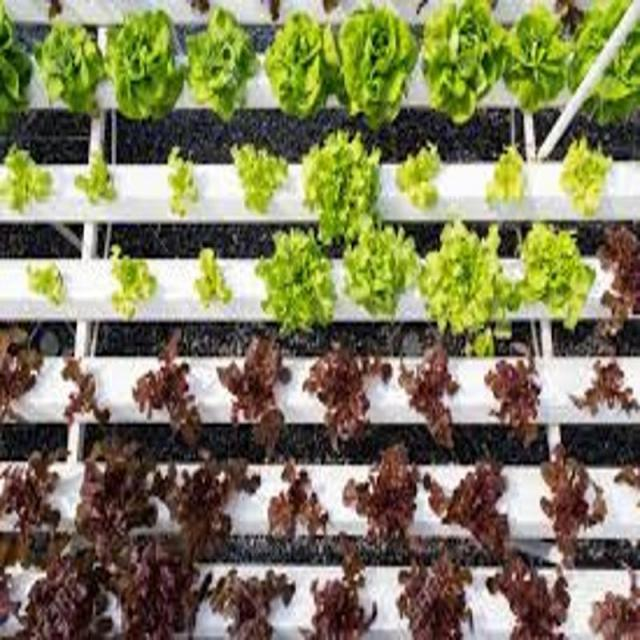Lettuce: (417, 218, 513, 337), (68, 433, 168, 547), (420, 2, 510, 128), (167, 448, 260, 565), (302, 128, 388, 245), (565, 0, 640, 133), (342, 2, 420, 128), (340, 445, 427, 557), (298, 342, 385, 450), (216, 335, 292, 457), (535, 445, 608, 572), (424, 462, 514, 565), (108, 8, 187, 124), (111, 536, 198, 640), (187, 3, 260, 125), (18, 545, 108, 640), (255, 227, 332, 335), (515, 217, 592, 325), (132, 333, 205, 445), (503, 0, 574, 113), (342, 218, 420, 320), (263, 8, 337, 115), (200, 563, 300, 640), (0, 436, 73, 538), (486, 558, 571, 640), (396, 551, 471, 640), (402, 342, 462, 450), (38, 15, 100, 118), (265, 457, 335, 545), (483, 342, 540, 450), (225, 142, 295, 218), (596, 223, 640, 338), (306, 567, 376, 638), (60, 352, 112, 436), (565, 355, 640, 413), (562, 135, 615, 215), (0, 326, 41, 421), (0, 142, 50, 215), (590, 568, 640, 640), (398, 138, 445, 210), (107, 244, 155, 314), (0, 12, 30, 123), (165, 144, 203, 224), (72, 150, 123, 208), (488, 143, 534, 205), (193, 244, 232, 314), (27, 258, 68, 305)
